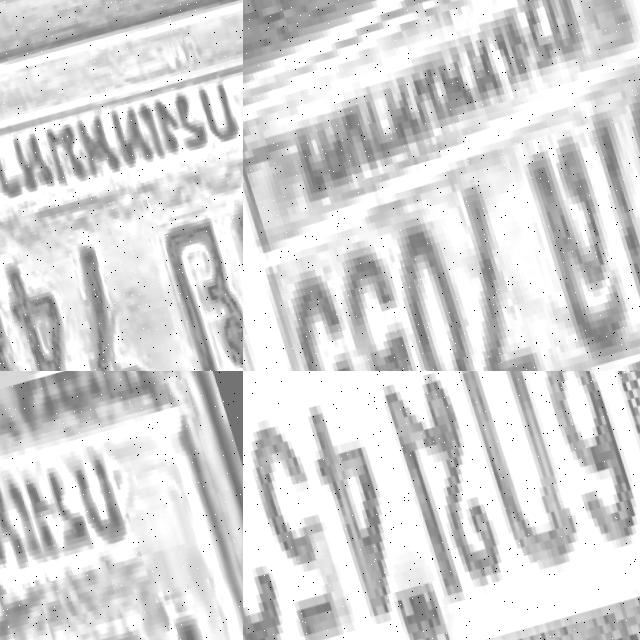license-plate: (243, 0, 640, 371), (243, 371, 640, 640), (0, 0, 243, 371), (0, 371, 243, 640)
